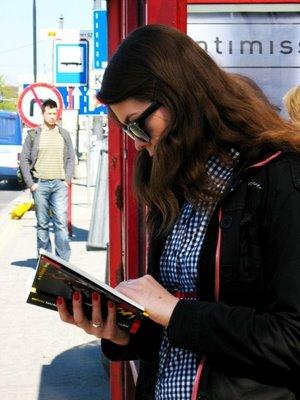person: (58, 26, 300, 399)
